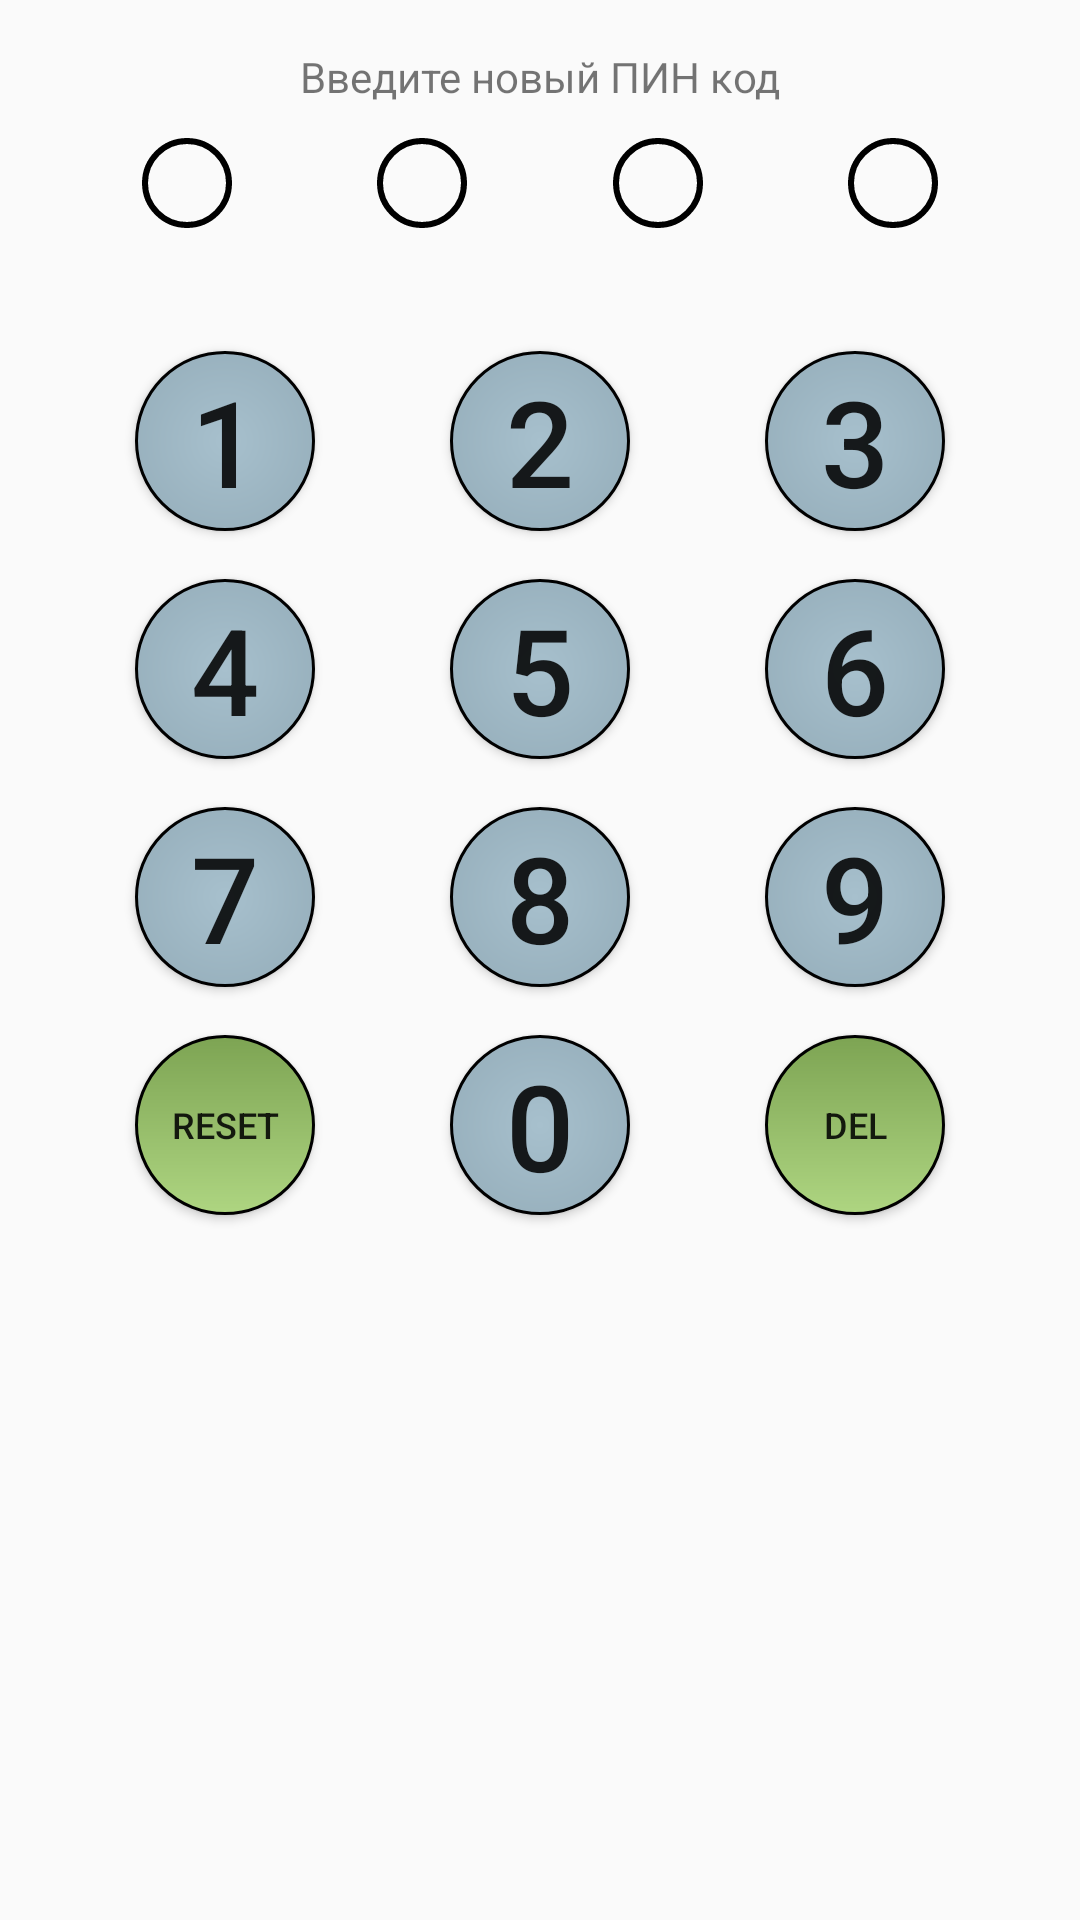

Icons on this 1080x1920 Android screen, each with its box as (x1, y1, x2, y2):
drw ring: (142, 138, 232, 228), (377, 138, 467, 228), (613, 138, 703, 228), (848, 138, 938, 228)
